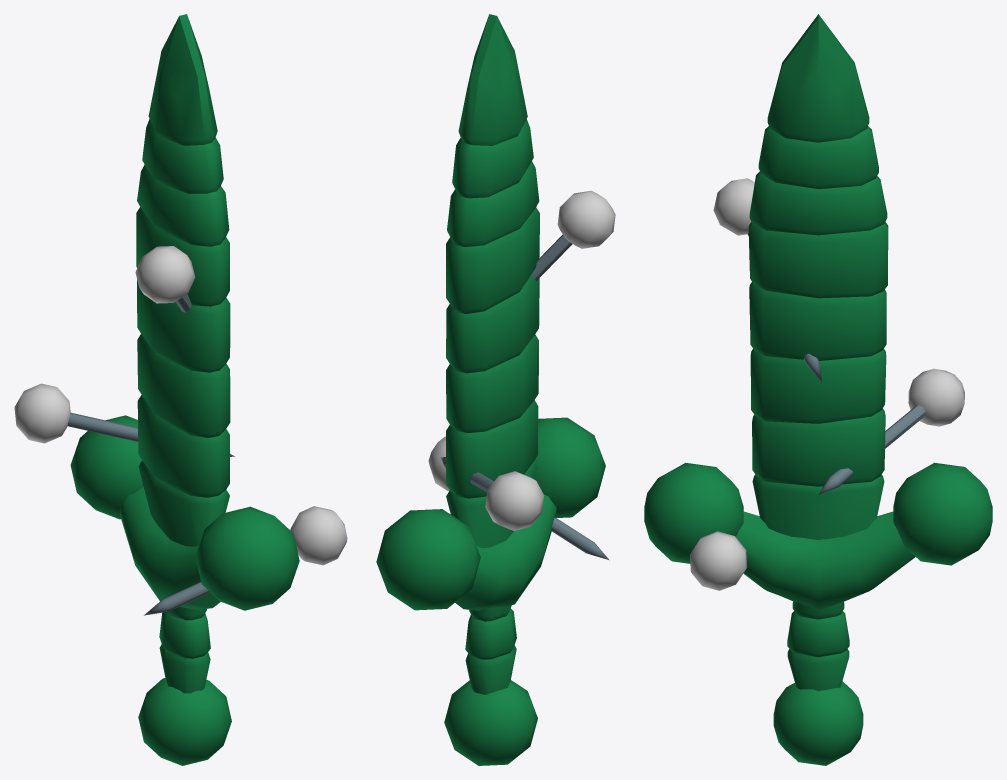
The model's file is knitten_sword.obj.
3 renders of one model, left to right at view 1: azimuth 30°, elevation 25°; view 2: azimuth 150°, elevation 25°; view 3: azimuth 270°, elevation 25°, orthographic.
Parts seen in each view (by area): view 1: knitten_sword_Plane.035; view 2: knitten_sword_Plane.035; view 3: knitten_sword_Plane.035.
Boxes of the visible parts, x1,y1,x2,y2 form: knitten_sword_Plane.035: (14, 14, 347, 765); knitten_sword_Plane.035: (376, 14, 615, 765); knitten_sword_Plane.035: (644, 14, 992, 765).
Size of the model in its own units: 0.553 by 1.83 by 0.7765.
